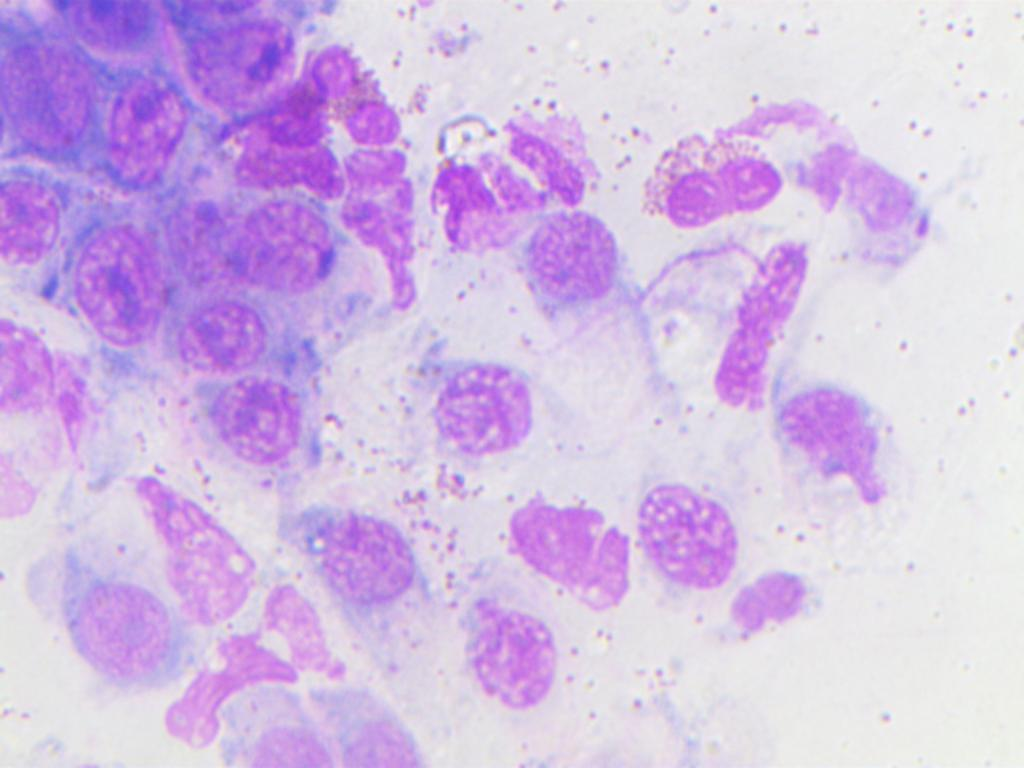artifact: (800, 107, 937, 250), (712, 238, 817, 412), (166, 627, 292, 754), (220, 91, 350, 201), (342, 149, 419, 316), (719, 573, 818, 639)
eosinophil: (412, 124, 598, 251), (623, 124, 789, 233), (308, 45, 407, 150)
epithelial: (136, 467, 260, 622), (51, 209, 151, 368), (0, 23, 106, 158), (509, 498, 631, 612), (772, 390, 889, 506), (181, 12, 297, 123), (227, 192, 351, 294), (638, 484, 736, 588), (104, 70, 183, 197), (470, 599, 559, 707), (211, 374, 311, 468), (169, 294, 285, 374), (435, 367, 532, 456), (528, 210, 619, 304), (320, 515, 413, 604), (84, 582, 171, 676), (0, 164, 70, 278), (51, 0, 173, 58)
